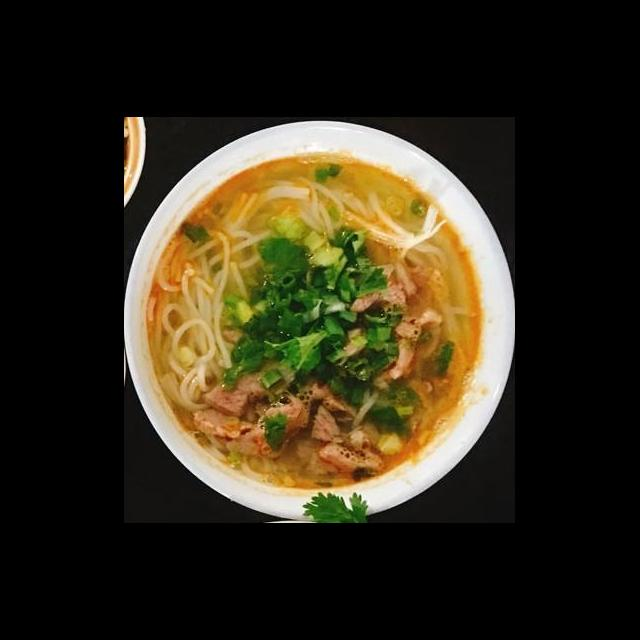bun: (142, 165, 314, 416), (286, 176, 452, 257)
bun bo: (156, 153, 495, 496)
thit bo: (334, 307, 439, 396), (306, 392, 394, 477), (220, 384, 316, 458), (202, 349, 300, 419), (344, 261, 442, 318)
